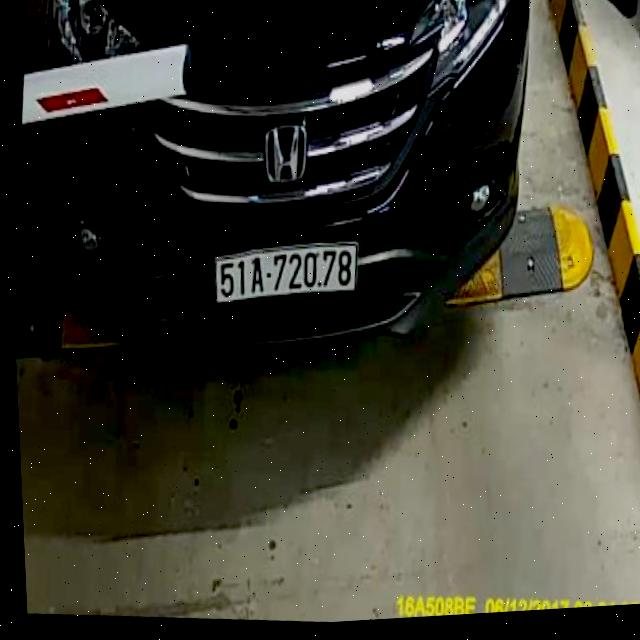car: (8, 0, 549, 405)
plate: (209, 230, 361, 313)
